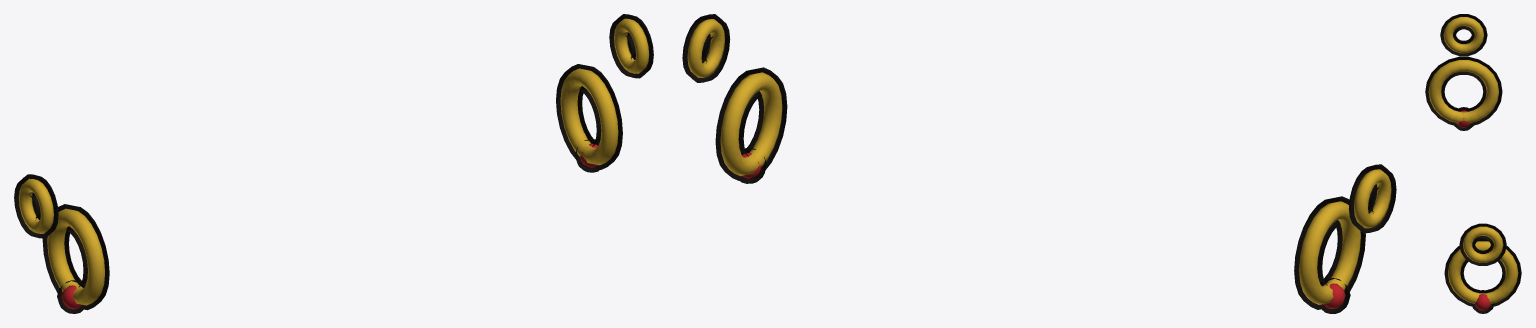
The model's file is earring_double_female_hi.glb.
3 views of the same model, side by side, from view 1: azimuth 30°, elevation 25°; view 2: azimuth 150°, elevation 25°; view 3: azimuth 270°, elevation 25° (orthographic). The views are drawn at different scales.
Visible parts, largest first — view 1: earring_double_female_hi; view 2: earring_double_female_hi; view 3: earring_double_female_hi.
Part boxes in pixels (left/top/right/bottom): earring_double_female_hi: left=14, top=14, right=653, bottom=313; earring_double_female_hi: left=682, top=14, right=1396, bottom=313; earring_double_female_hi: left=1425, top=14, right=1521, bottom=313.
Size of the model in its own units: 0.5333 by 0.119 by 0.0999.
